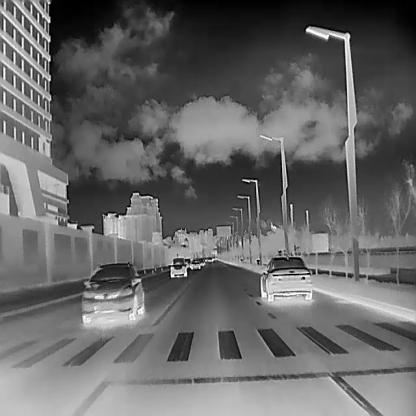car: (80, 260, 144, 323), (259, 252, 312, 300), (167, 256, 187, 276), (188, 257, 200, 268), (198, 256, 206, 265), (184, 258, 191, 268), (207, 256, 212, 261), (212, 256, 215, 259)
